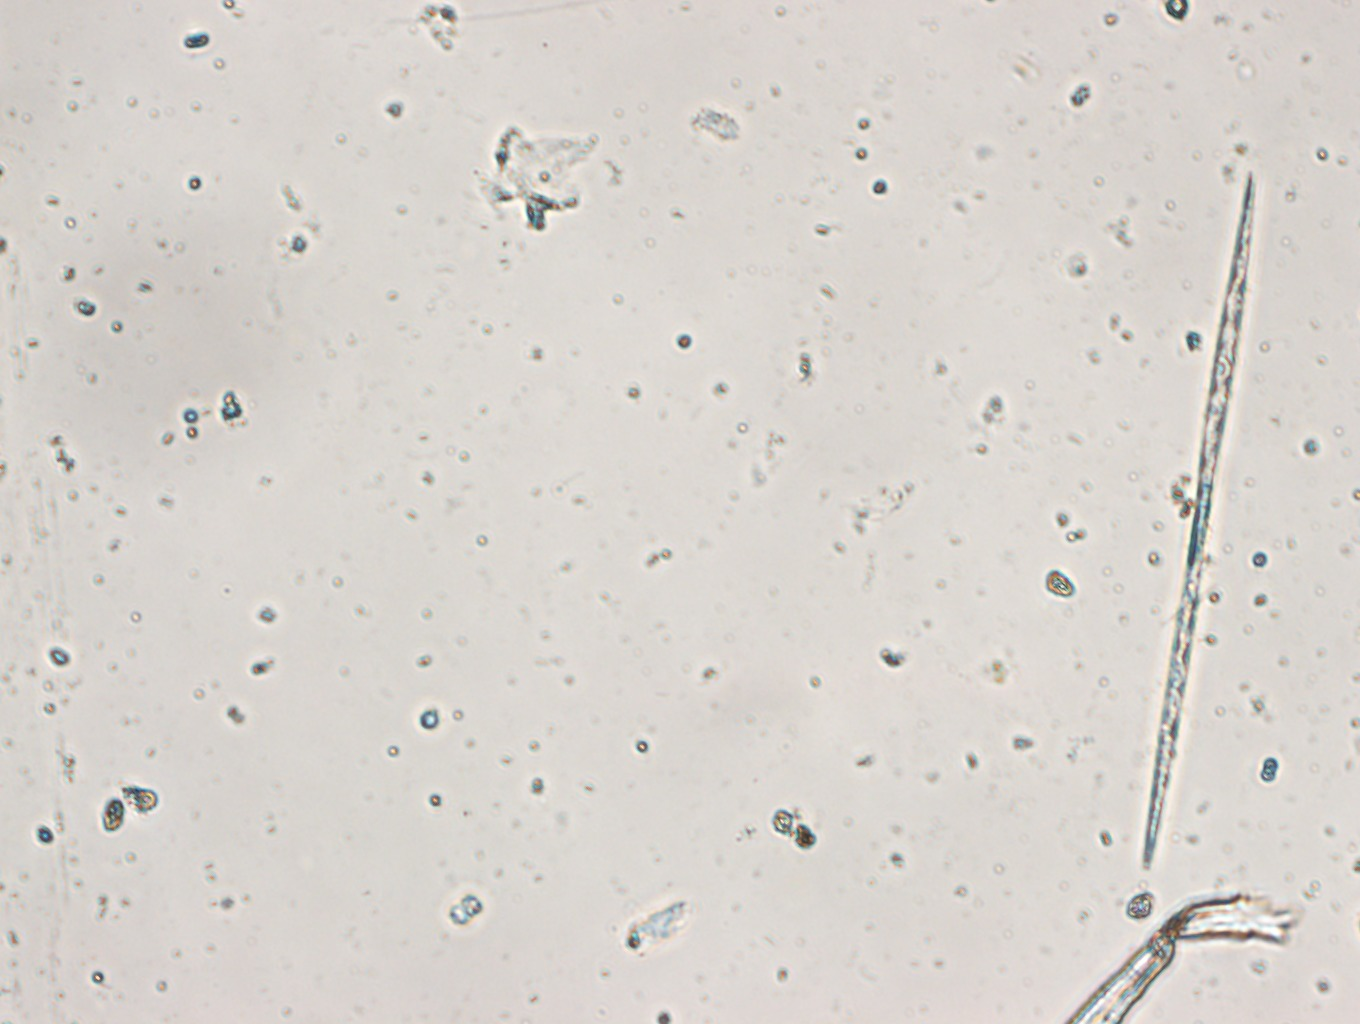ceratium fusus: (1143, 165, 1262, 870)
